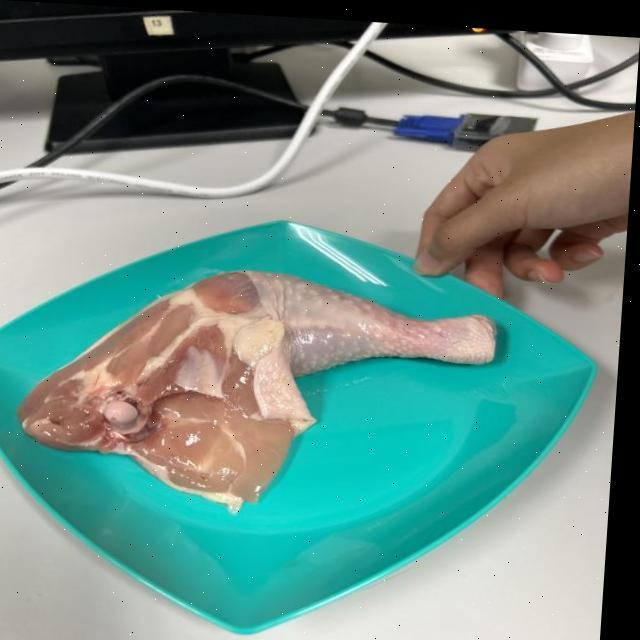quater: (27, 248, 510, 506)
